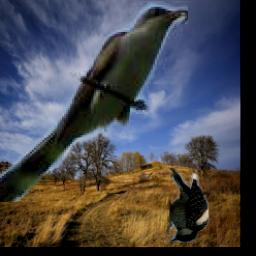Cuckoo: (0, 1, 188, 202)
Woodpecker: (168, 169, 211, 243)
